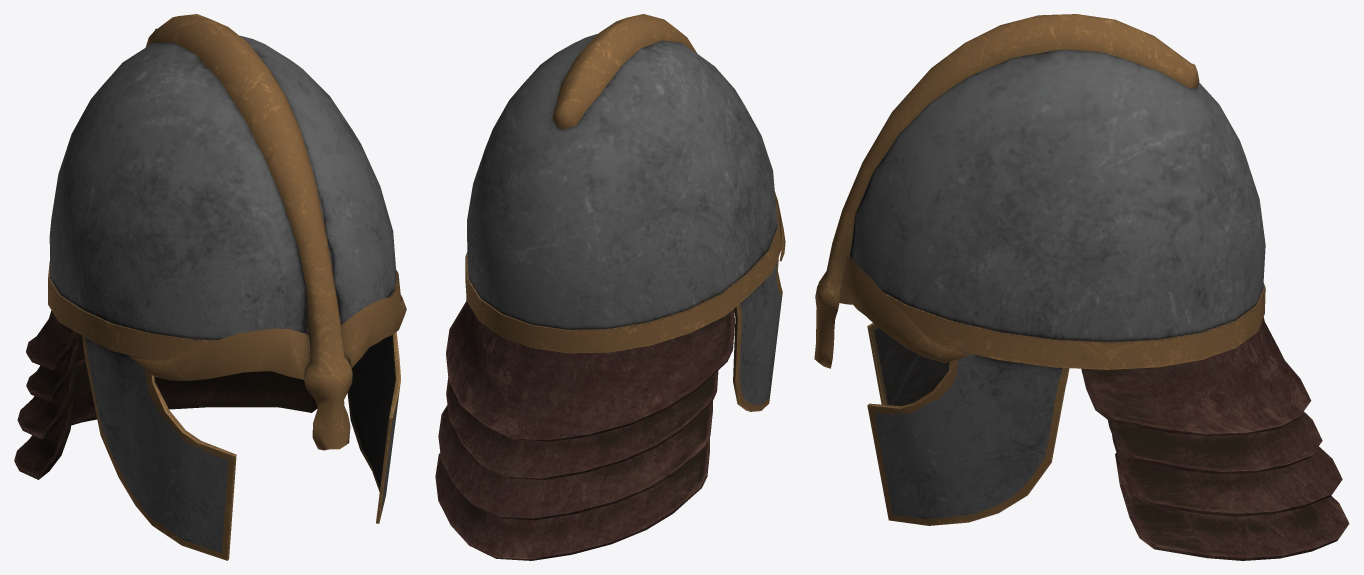
Rendered from cts_rohan_helmet_captain.fbx.
3 views of the same model, side by side, from view 1: azimuth 30°, elevation 25°; view 2: azimuth 150°, elevation 25°; view 3: azimuth 270°, elevation 25° (orthographic). The views are drawn at different scales.
Parts seen in each view (by area): view 1: cts_rohan_helmet_captain; view 2: cts_rohan_helmet_captain; view 3: cts_rohan_helmet_captain.
Part boxes in pixels (x1,y1,x2,y2): cts_rohan_helmet_captain: (14, 14, 406, 560); cts_rohan_helmet_captain: (435, 14, 785, 560); cts_rohan_helmet_captain: (814, 14, 1349, 560).
Bounding box in the file's own units: 0.1926 × 0.2981 × 0.3141.
Materials: 1 (1 with a texture image).
